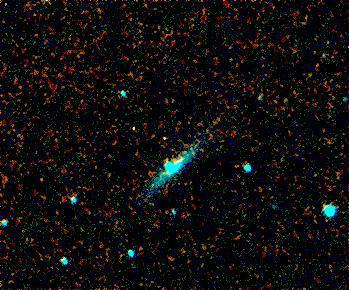star: (148, 124, 178, 154)
